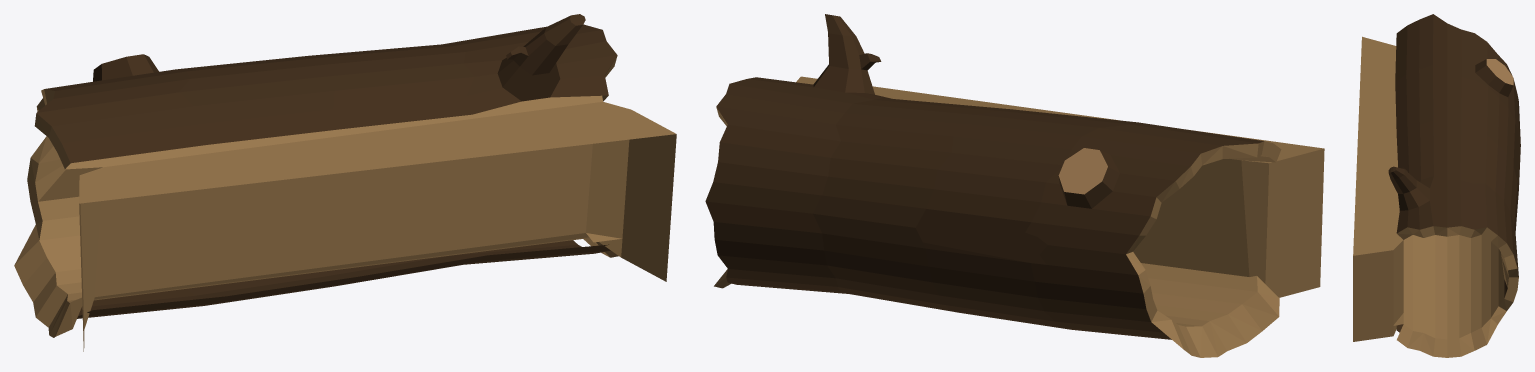
File: log_col.glb
3 views of the same model, side by side, from view 1: azimuth 30°, elevation 25°; view 2: azimuth 150°, elevation 25°; view 3: azimuth 270°, elevation 25° (orthographic). The views are drawn at different scales.
Visible parts, largest first — view 1: Cylinder.002, Cylinder, Cylinder.001; view 2: Cylinder, Cylinder.002, Cylinder.001, Cylinder.003; view 3: Cylinder, Cylinder.002, Cylinder.001, Cylinder.003.
Boxes of the visible parts, x1,y1,x2,y2 form: Cylinder.002: (35,95,676,351); Cylinder: (37,14,617,318); Cylinder.001: (14,56,618,337); Cylinder: (705,14,1263,339); Cylinder.002: (796,76,1324,326); Cylinder.001: (714,107,1281,357); Cylinder.003: (1058,148,1107,194); Cylinder: (1388,14,1520,332); Cylinder.002: (1353,36,1508,341); Cylinder.001: (1397,226,1518,357); Cylinder.003: (1486,59,1513,85).
Bounding box in the file's own units: 5.86 × 2.67 × 2.34.
3 materials, 1 textured.
